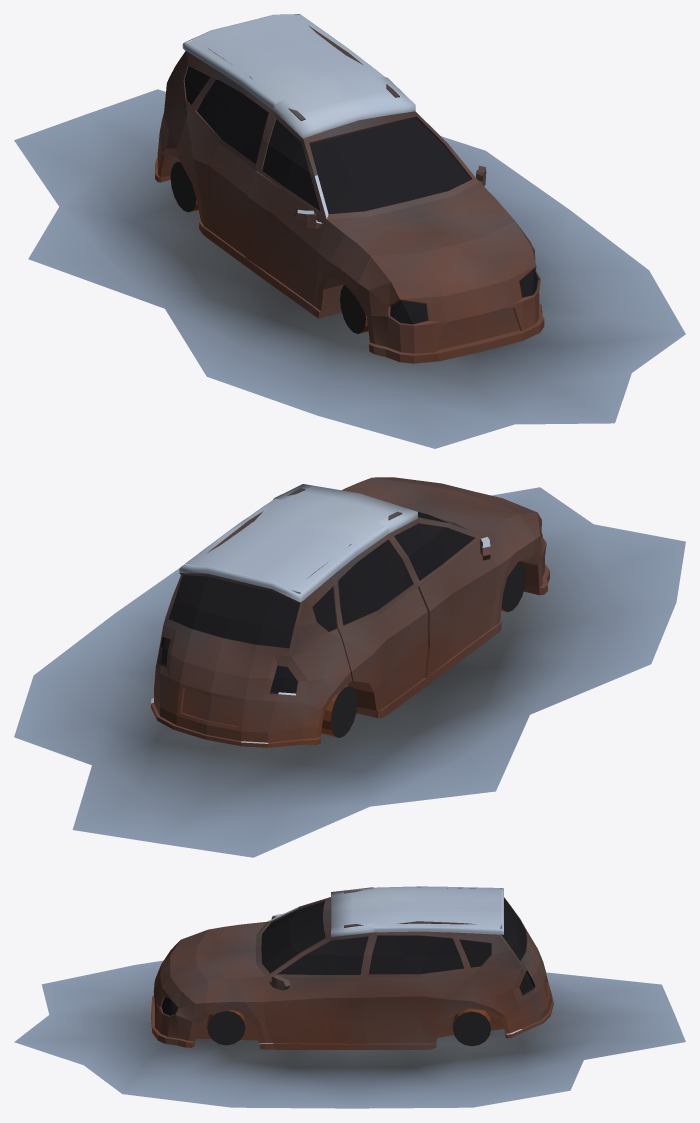
Rendered from suv_burnt.glb.
3 renders of one model, top to bottom at view 1: azimuth 30°, elevation 25°; view 2: azimuth 150°, elevation 25°; view 3: azimuth 270°, elevation 25°, orthographic. The views are drawn at different scales.
Visible parts, largest first — view 1: Body; view 2: Body; view 3: Body.
Part boxes in pixels (x1=…): Body: x1=14, y1=14, x2=685, y2=448; Body: x1=14, y1=477, x2=685, y2=857; Body: x1=14, y1=886, x2=685, y2=1108.
Bounding box in the file's own units: 4.63 × 1.64 × 8.01.
